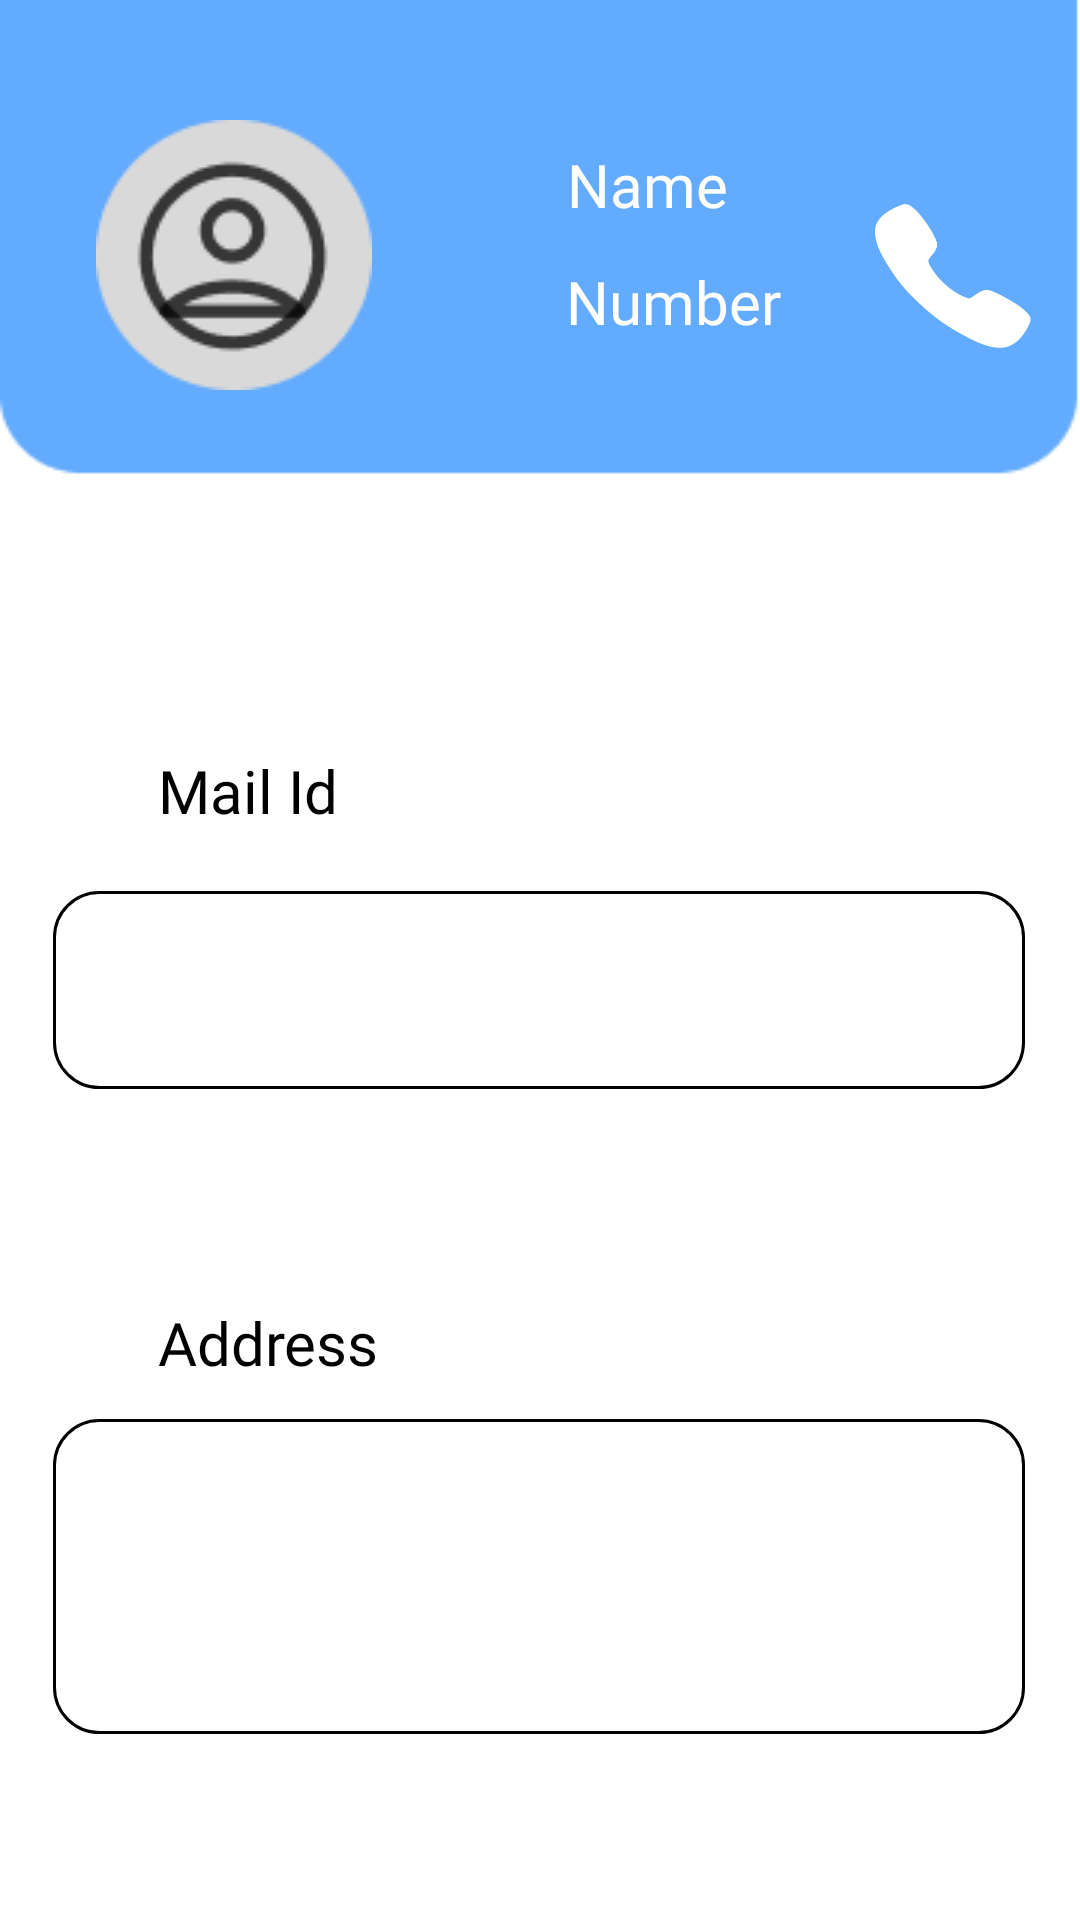

Locate icon controls on the screen. Image size 1080 × 1920, boxes as (x1,y1,x2,y2).
call: (875,204,1031,348)
profile: (96,120,372,390)
